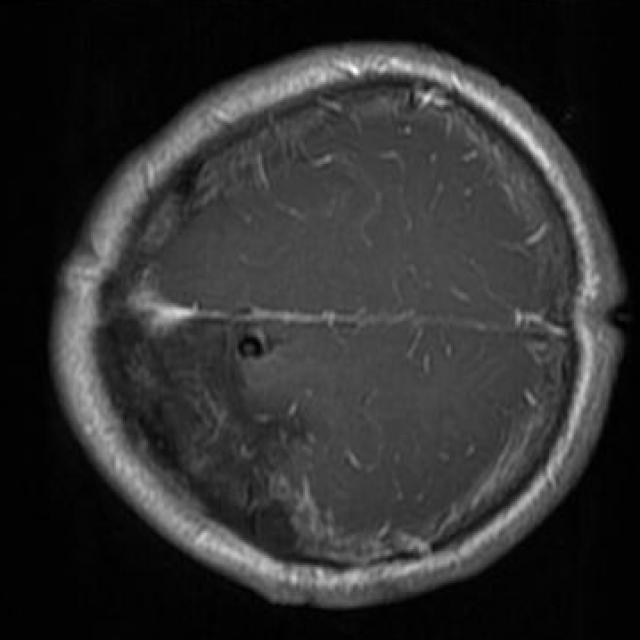glioma: (96, 316, 317, 558)
